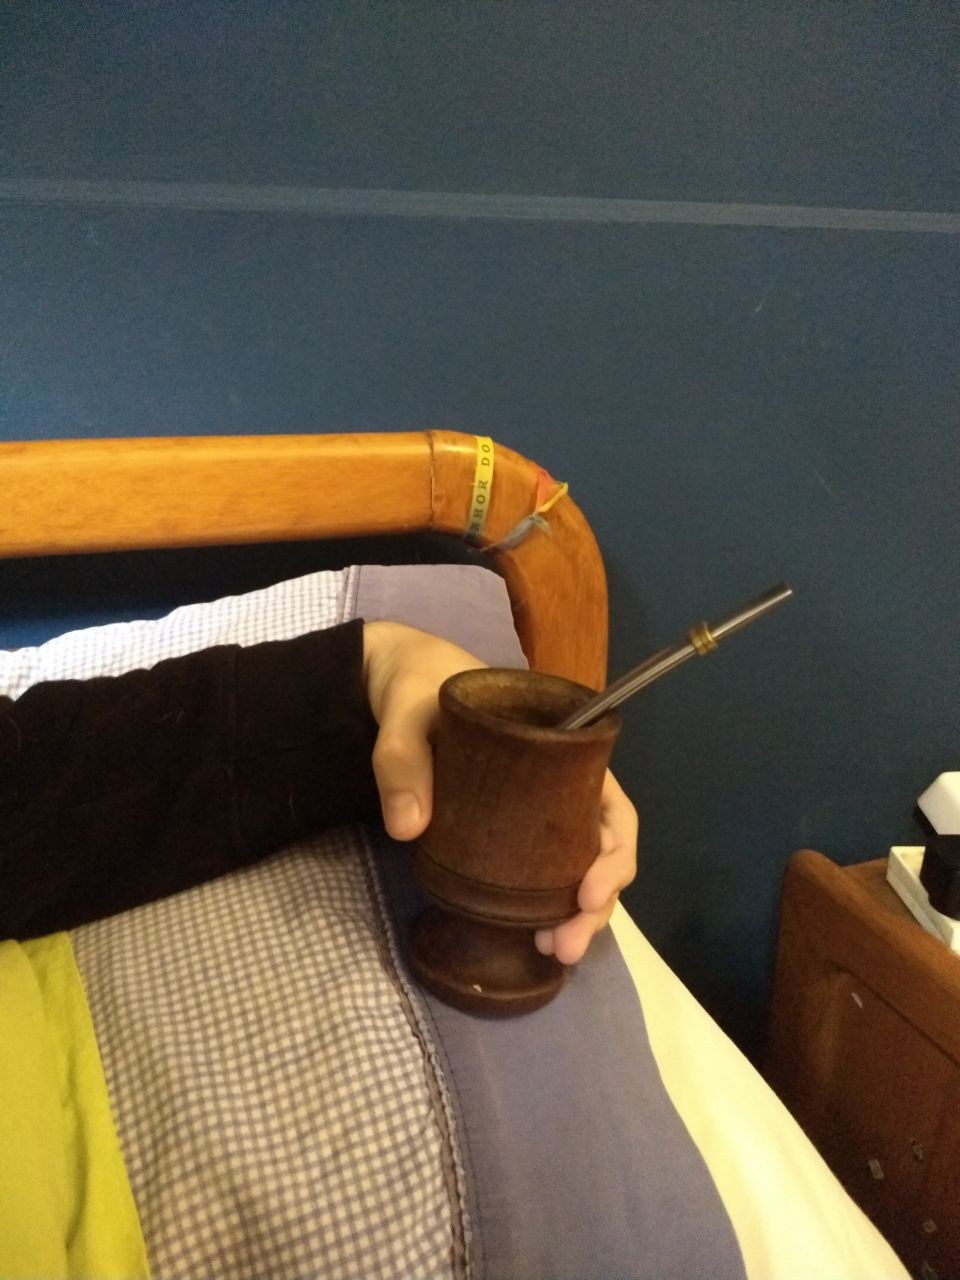madera: (392, 577, 799, 1022)
mate: (394, 578, 801, 1024)
